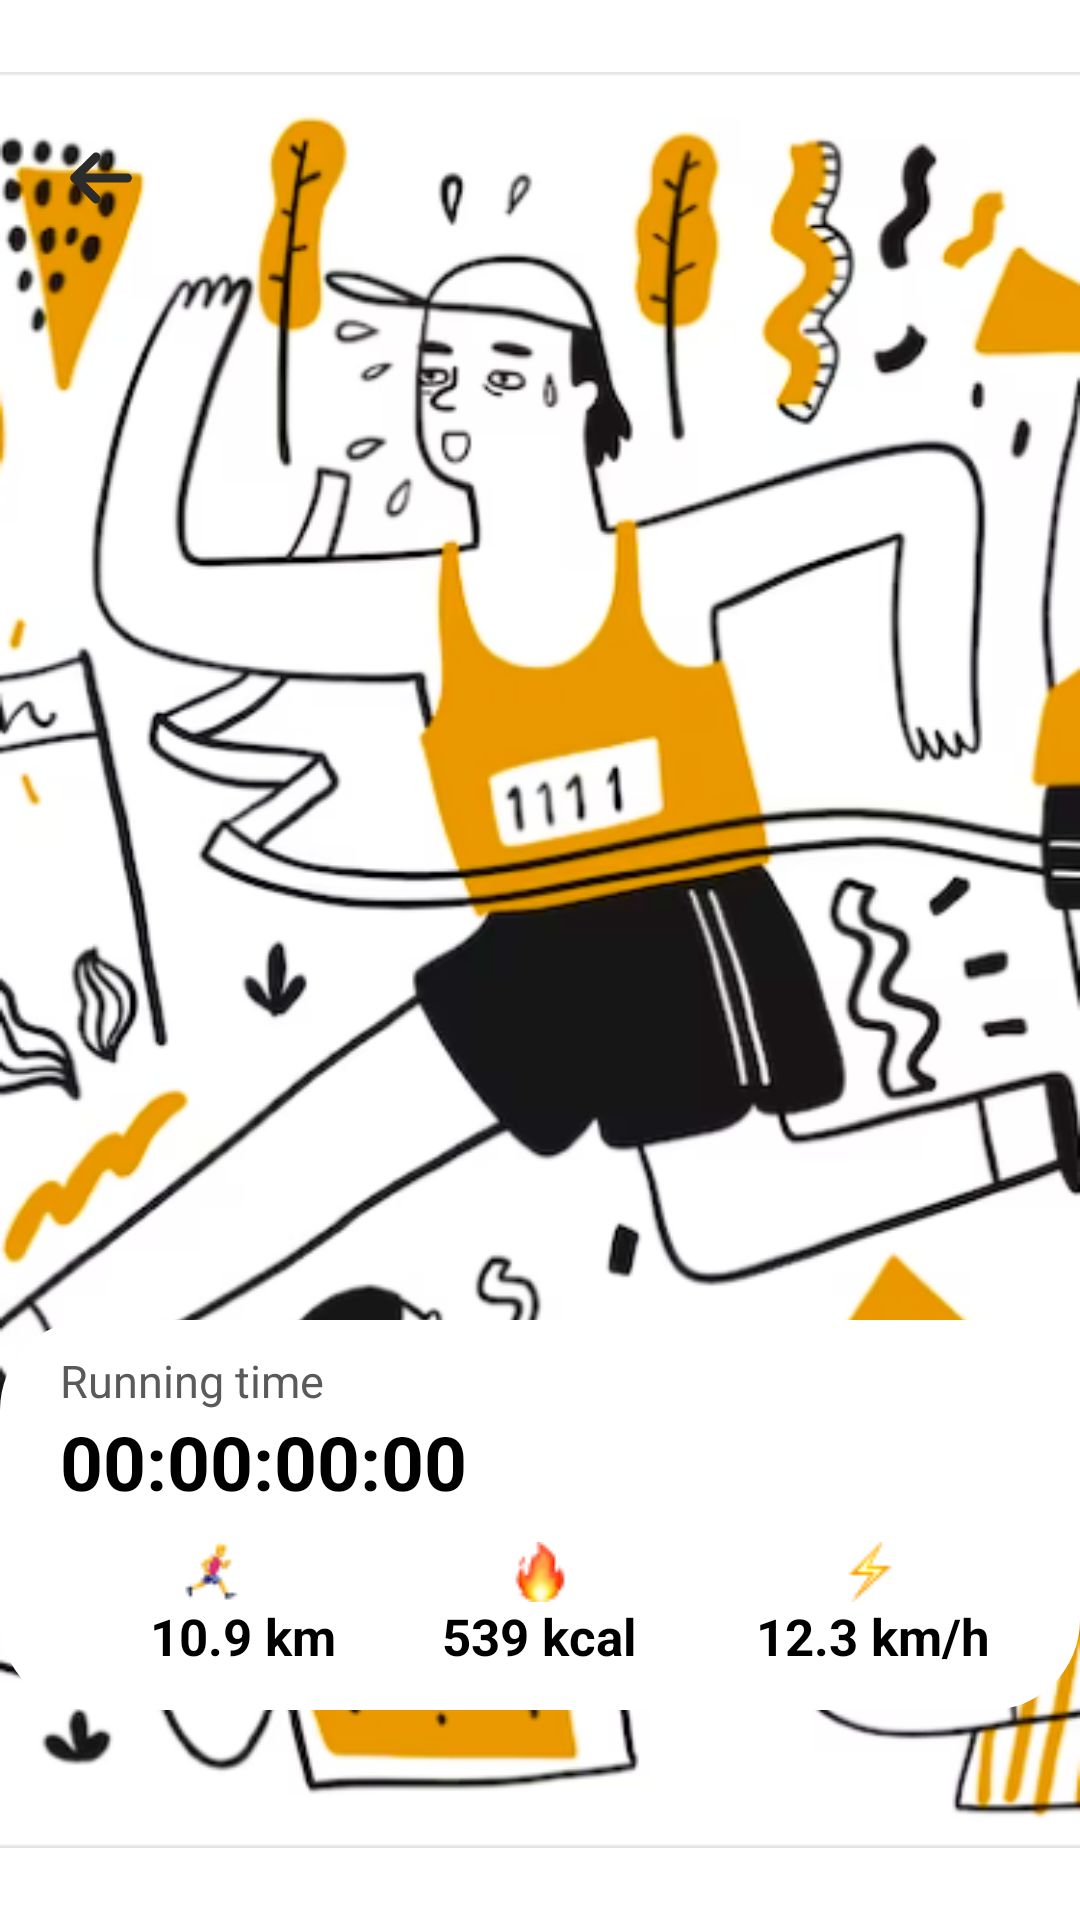

Where icons sit on this 1080x1920 app screen, as detection(x1, y1, x2, y2):
fire: detection(515, 1542, 565, 1602)
power: detection(848, 1542, 892, 1602)
return: detection(60, 142, 144, 219)
